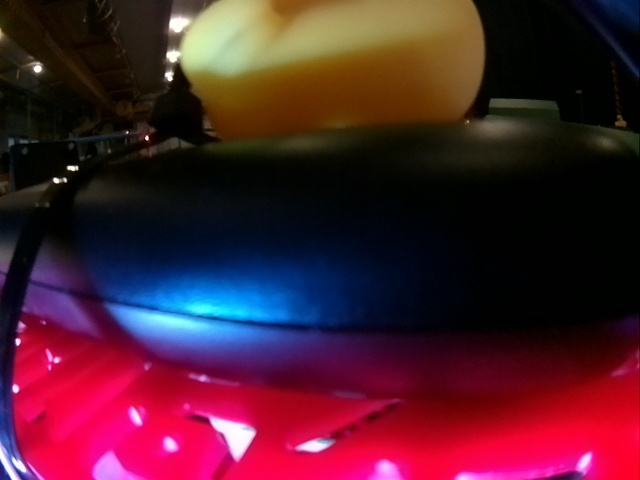Duckie: (181, 3, 482, 122), (615, 115, 627, 127)
Duckiebot: (2, 122, 637, 479)
